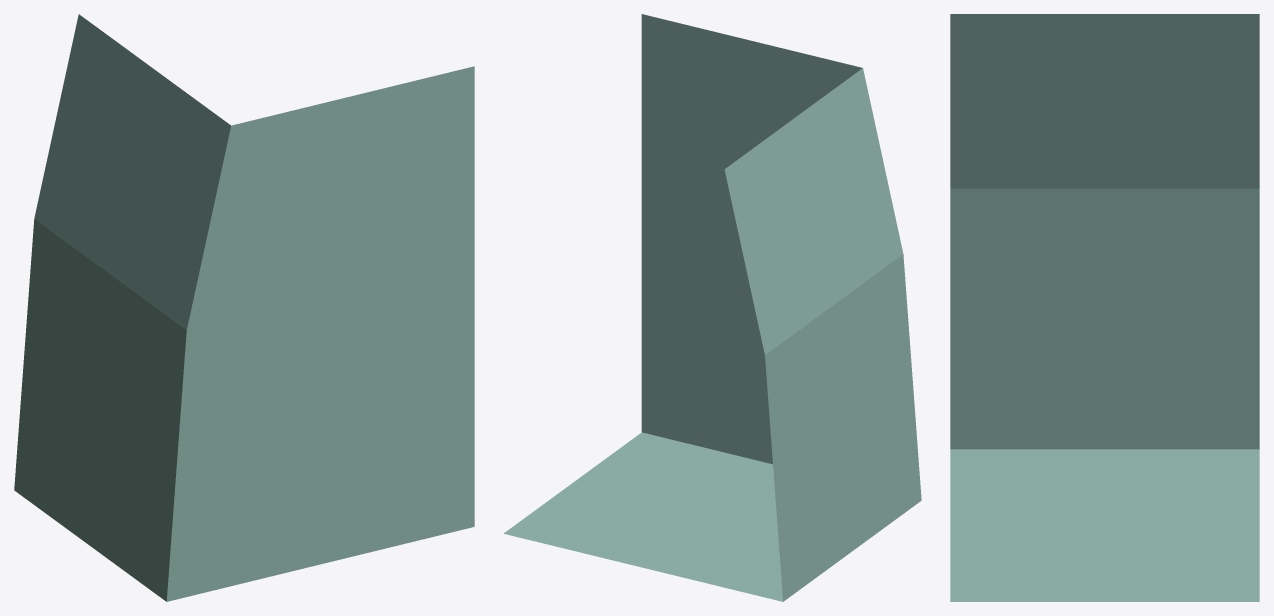
The model's file is cell_100.obj.
3 views of the same model, side by side, from view 1: azimuth 30°, elevation 25°; view 2: azimuth 150°, elevation 25°; view 3: azimuth 270°, elevation 25° (orthographic). The views are drawn at different scales.
Size of the model in its own units: 0.35 by 0.5 by 0.3.
